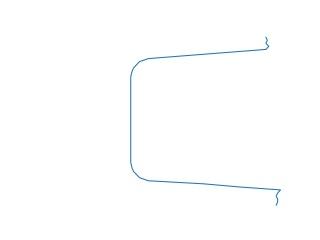aeolianDune: (122, 36, 290, 205)
